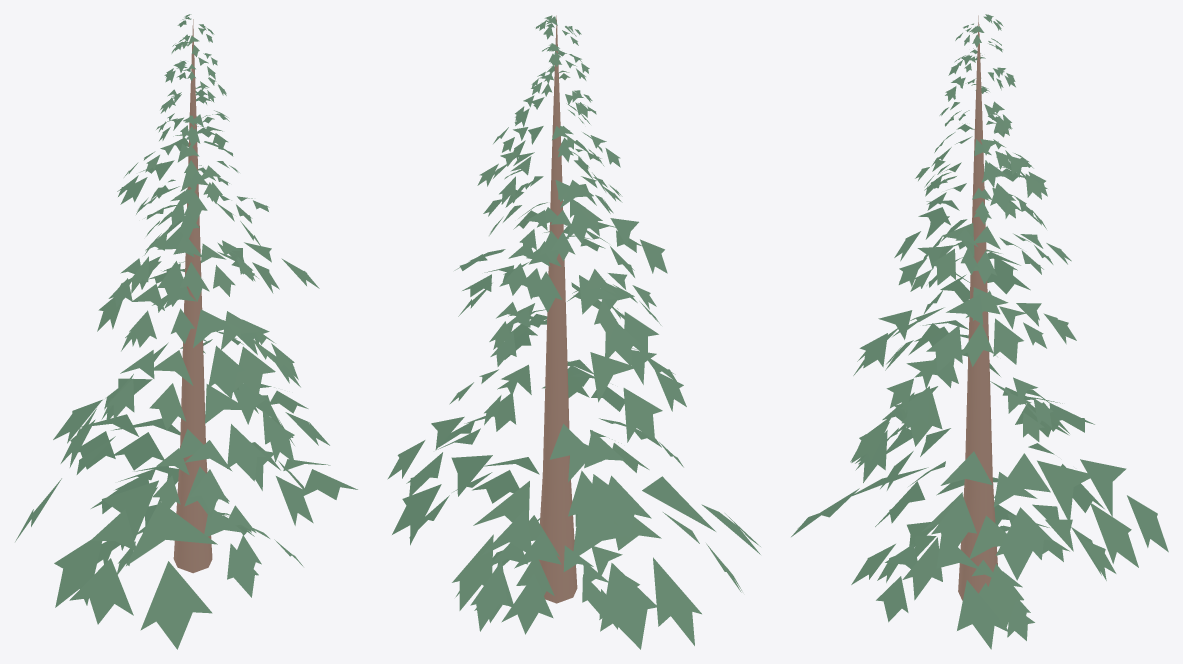
File: Blender_YoungRedwood_3_Far.glb
The picture shows the model from 3 angles, left to right: view 1: azimuth 30°, elevation 25°; view 2: azimuth 150°, elevation 25°; view 3: azimuth 270°, elevation 25°; orthographic projection. The views are drawn at different scales.
Parts seen in each view (by area): view 1: Blender_YoungRedwood_3_Far; view 2: Blender_YoungRedwood_3_Far; view 3: Blender_YoungRedwood_3_Far.
Boxes of the visible parts, x1,y1,x2,y2 form: Blender_YoungRedwood_3_Far: [15, 14, 357, 649]; Blender_YoungRedwood_3_Far: [387, 15, 760, 649]; Blender_YoungRedwood_3_Far: [791, 14, 1168, 649].
Bounding box in the file's own units: 19.61 × 34.47 × 19.79.
